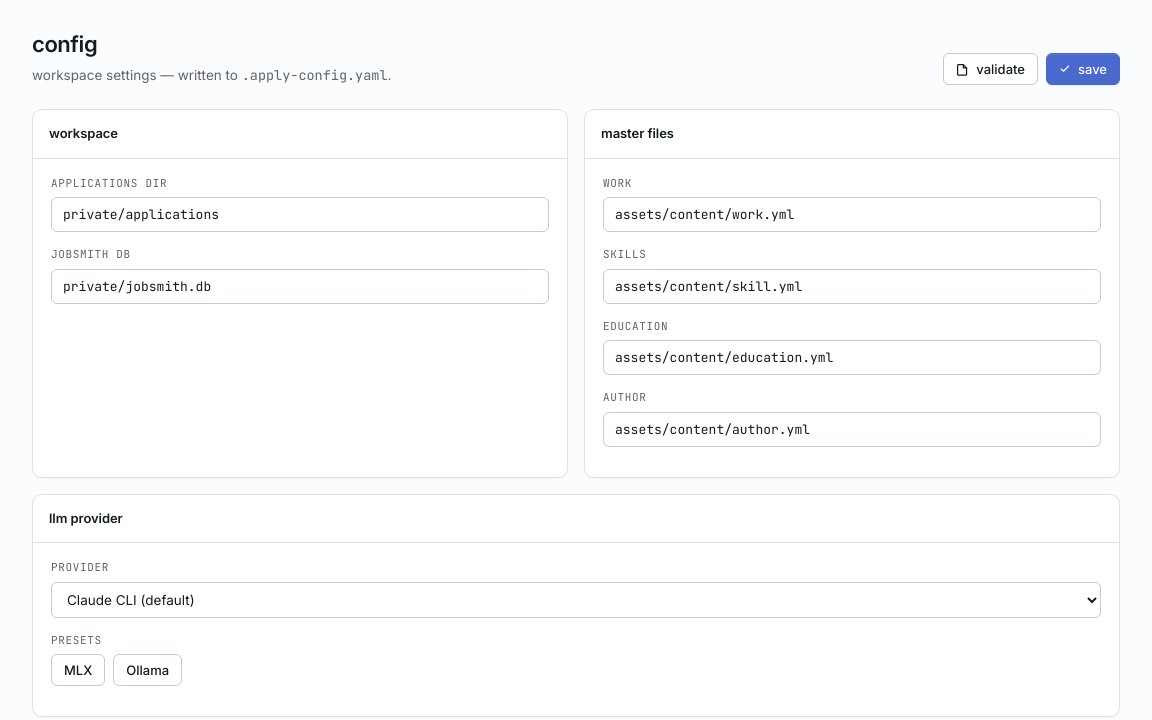
Test: ConfigView › shows validation success when POST returns ok:true
The image size is (1152, 720).
Check: the 2nd field showing "assets/content/work.yml" is shown, box [603, 197, 1101, 232]
Click the button "validate" at (991, 69), box [943, 53, 1038, 85]
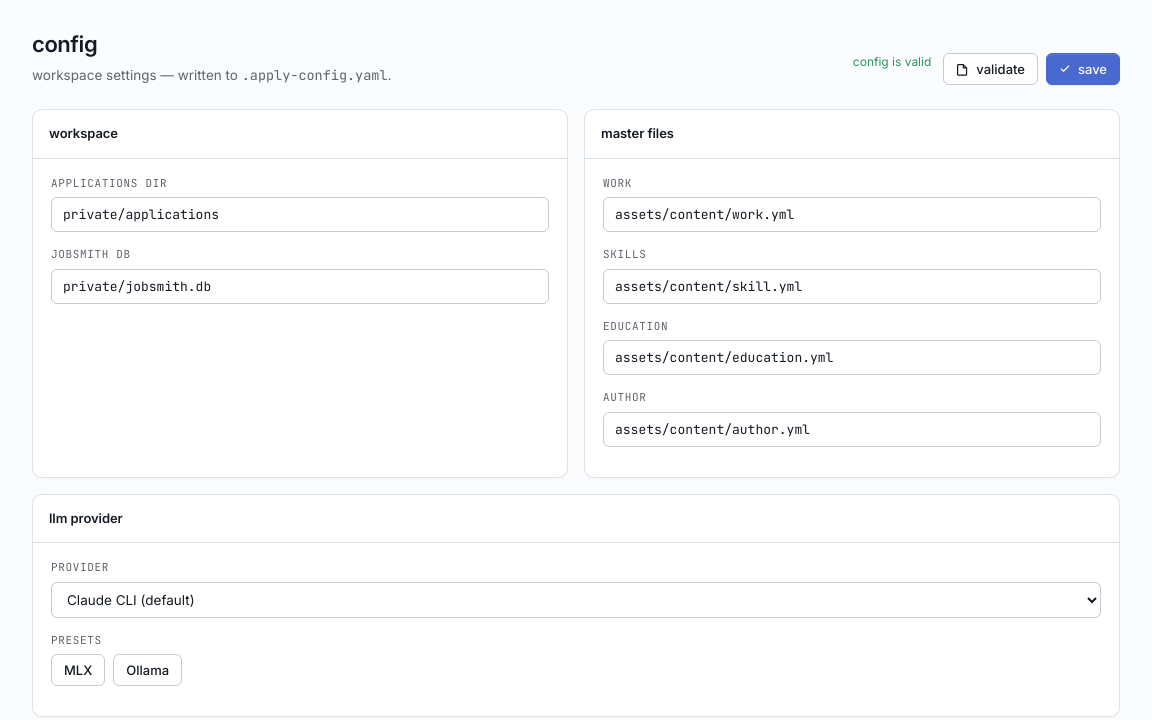
Check: the text "config is valid" is shown, box [853, 54, 931, 69]
